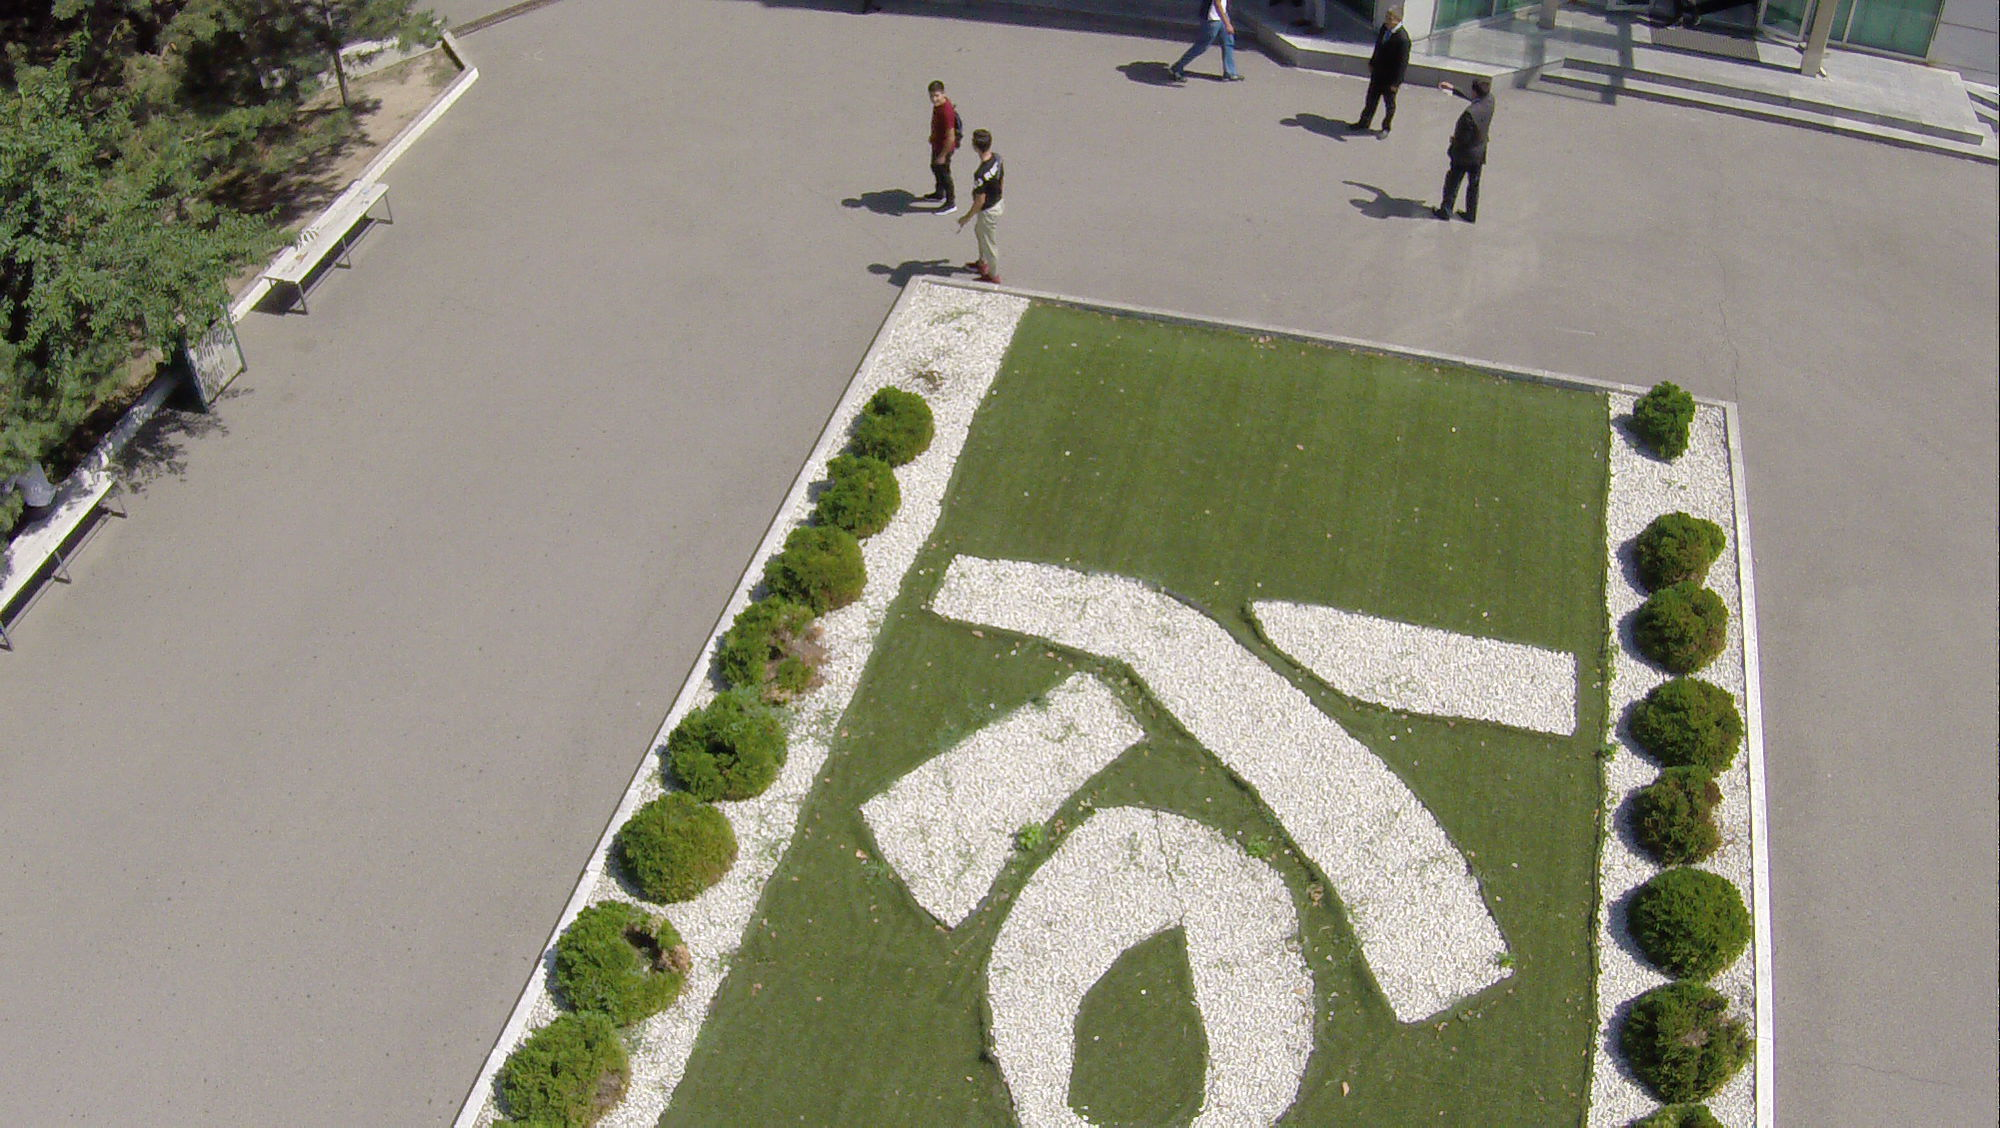person: (1443, 80, 1503, 220), (1351, 8, 1410, 141), (966, 139, 1005, 278), (920, 85, 955, 218)
